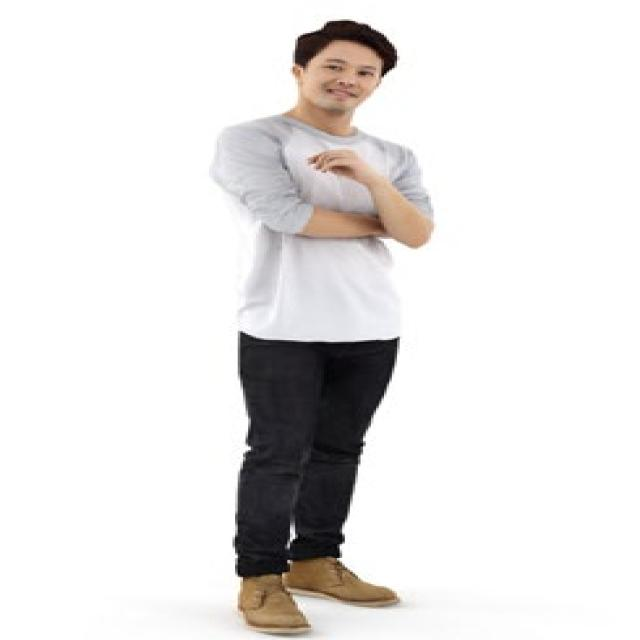standing: (205, 15, 442, 640)
